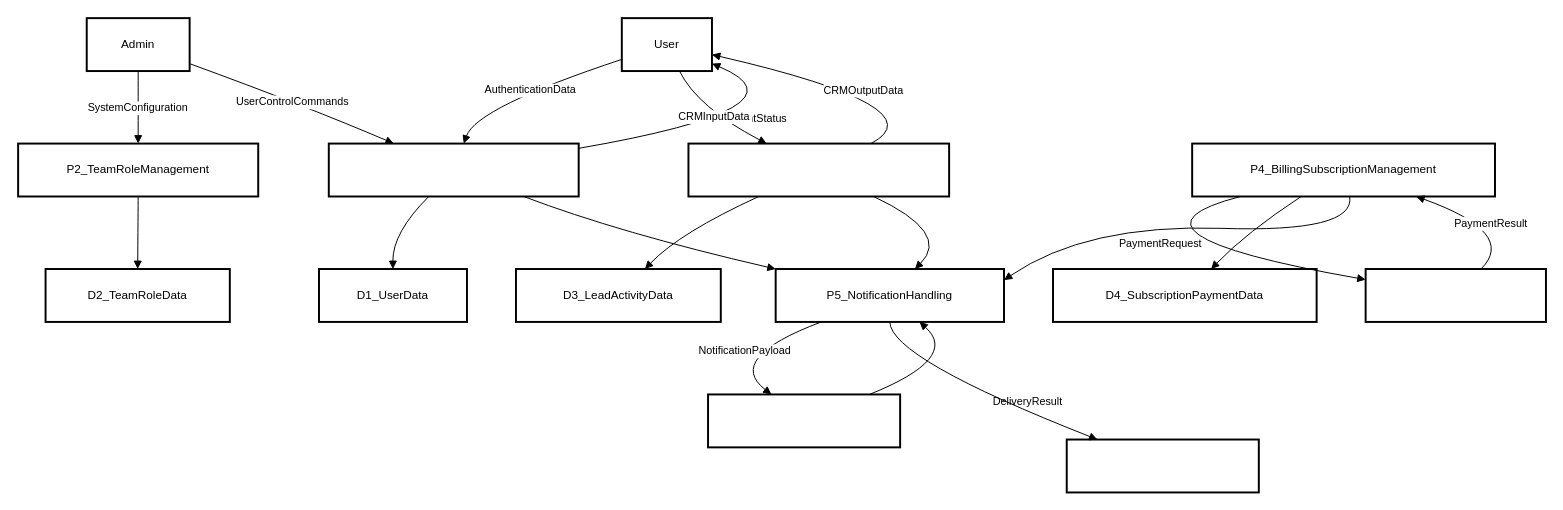
Some shapes in this 1563 by 510 pixel diagram are drawn without their labels. The centre of each missing label's shape, as x and y in pixels:
"D5_NotificationLog" goes at (x=1162, y=465).
"NotificationService" goes at (x=804, y=420).
"P1_UserAccessManagement" goes at (x=453, y=169).
"P3_LeadActivityManagement" goes at (x=818, y=169).
"PaymentGateway" goes at (x=1455, y=295).
